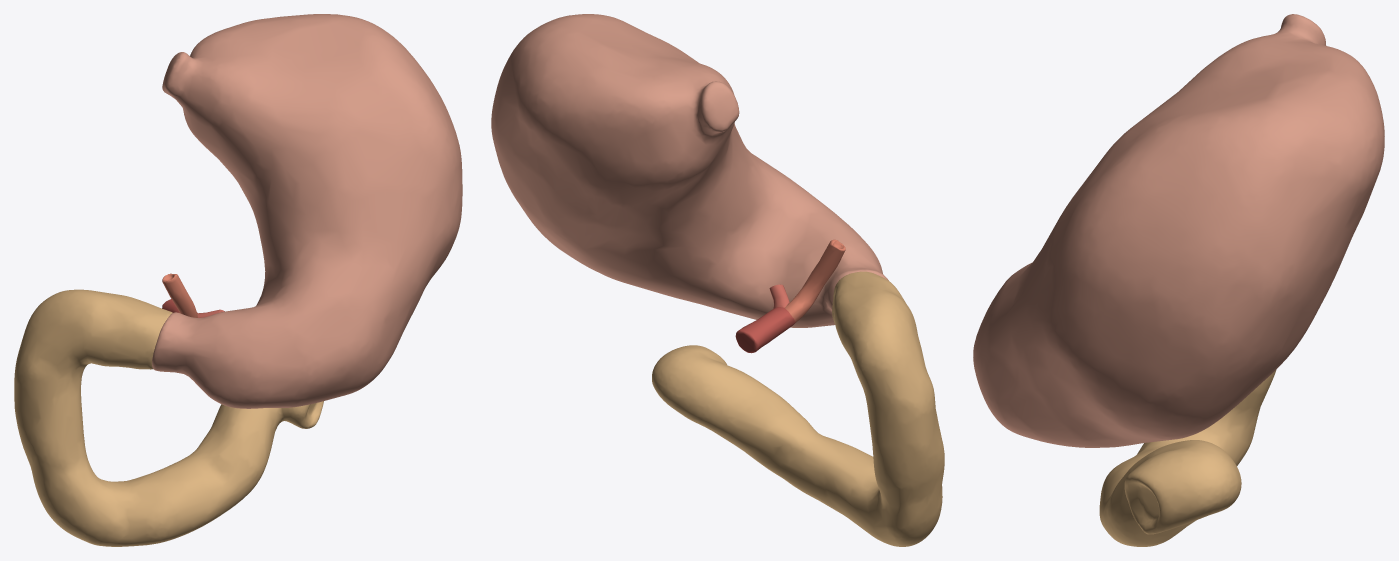
Rendered from stomach.glb.
3 renders of one model, left to right at view 1: azimuth 30°, elevation 25°; view 2: azimuth 150°, elevation 25°; view 3: azimuth 270°, elevation 25°, orthographic. The views are drawn at different scales.
Visible parts, largest first — view 1: stomach, duodenum, common-hepatic-artery; view 2: stomach, duodenum, common-hepatic-artery, celiac-trunk; view 3: stomach, duodenum.
Part boxes in pixels (left/top/right/bottom): stomach: left=152, top=14, right=462, bottom=408; duodenum: left=14, top=289, right=323, bottom=546; common-hepatic-artery: left=162, top=273, right=197, bottom=317; stomach: left=491, top=14, right=888, bottom=327; duodenum: left=652, top=271, right=944, bottom=546; common-hepatic-artery: left=785, top=239, right=845, bottom=322; celiac-trunk: left=735, top=307, right=795, bottom=353; stomach: left=973, top=14, right=1384, bottom=447; duodenum: left=1099, top=369, right=1276, bottom=546.
Size of the model in its own units: 3.57 by 3.57 by 2.3.
